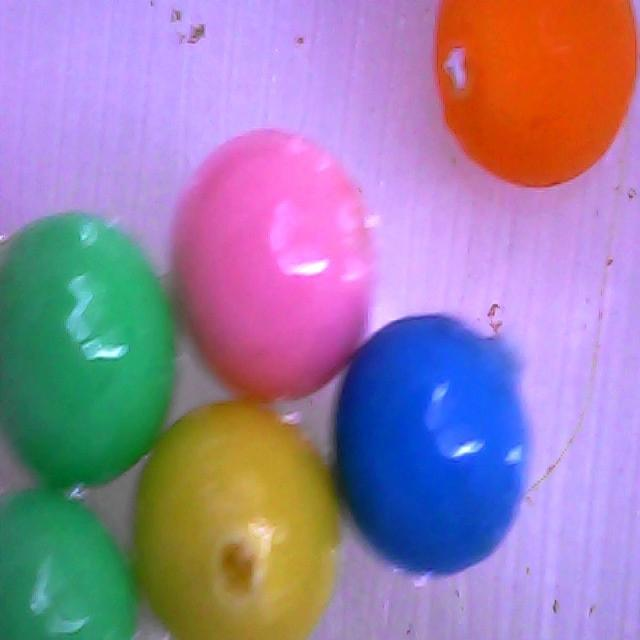beads: (169, 129, 377, 405), (334, 315, 533, 579), (132, 400, 344, 640), (0, 212, 179, 494), (433, 0, 640, 191), (0, 489, 143, 640)
